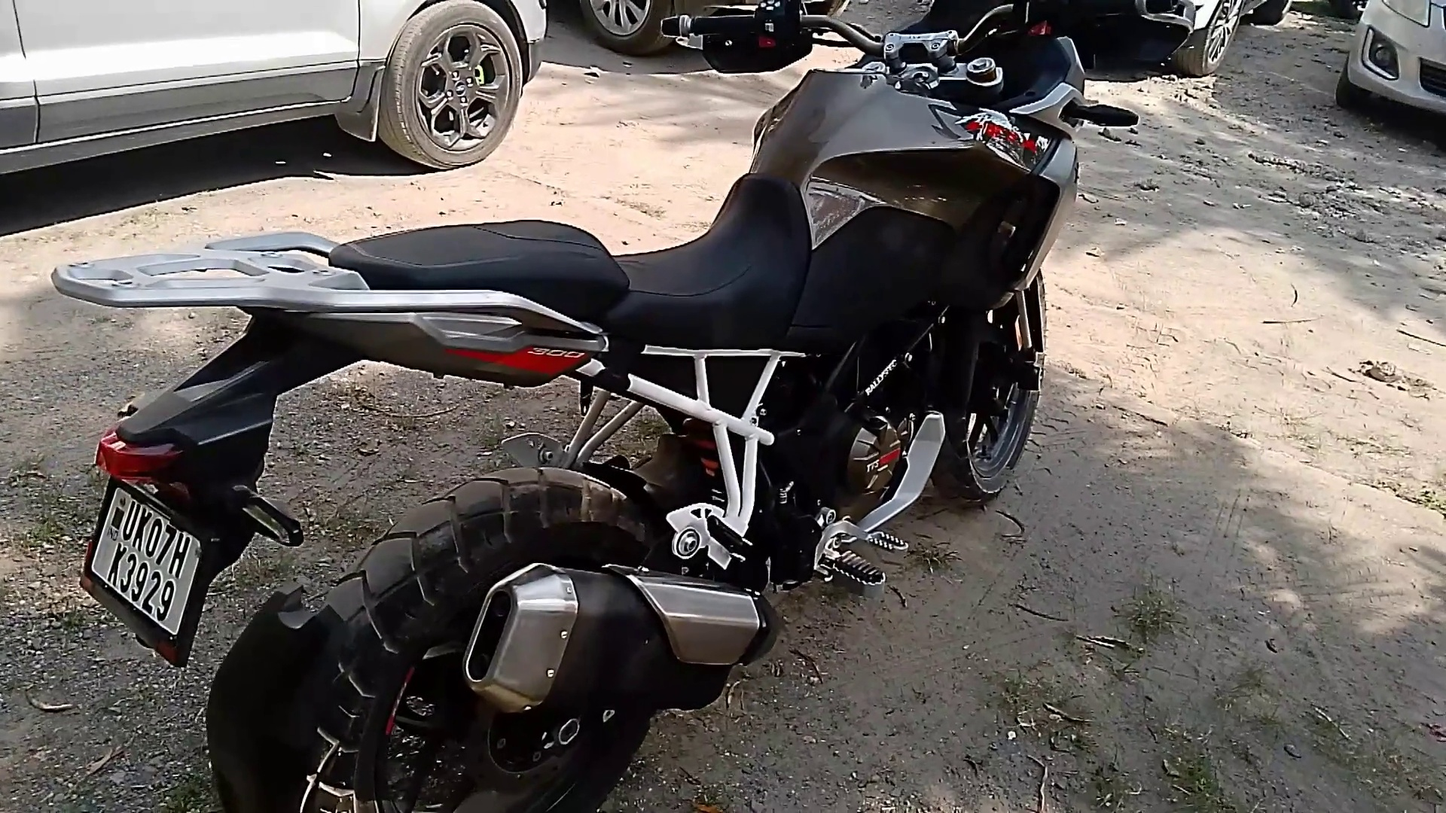bike-engine: (828, 406, 920, 530)
bike-engine-level: (839, 513, 858, 527)
